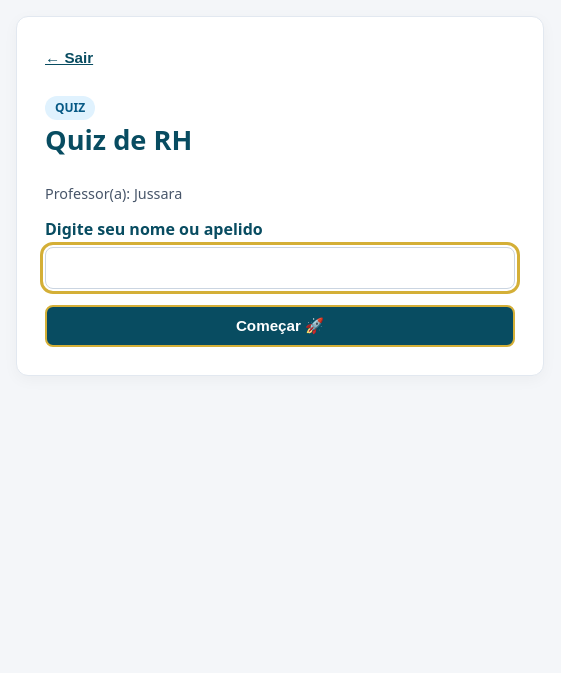
Test case: aluno escolhe alternativas no quiz e vê o placar final
The width and height of the screenshot is (561, 673).
Tela do nome
Type "Ana" into the field labelled "Digite seu nome ou apelido".
click(280, 268); type("Ana")  # box x1=45 y1=247 x2=515 y2=289
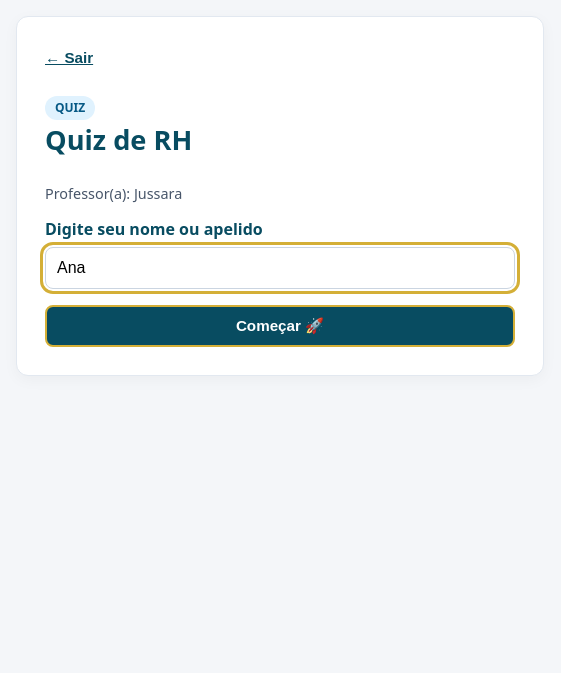
Click the button "Começar 🚀".
click(280, 326)  # box x1=45 y1=305 x2=515 y2=347
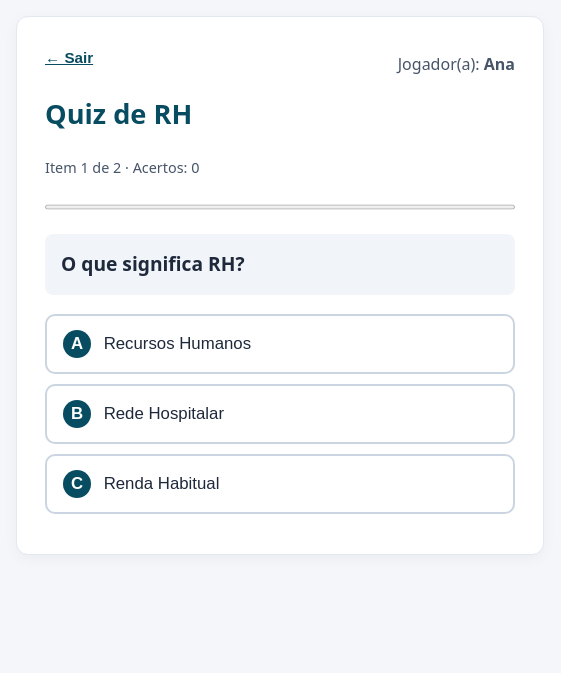
Pergunta 1 - escolhe a certa
Click the button "A Recursos Humanos".
click(177, 344)  # box x1=45 y1=314 x2=515 y2=374
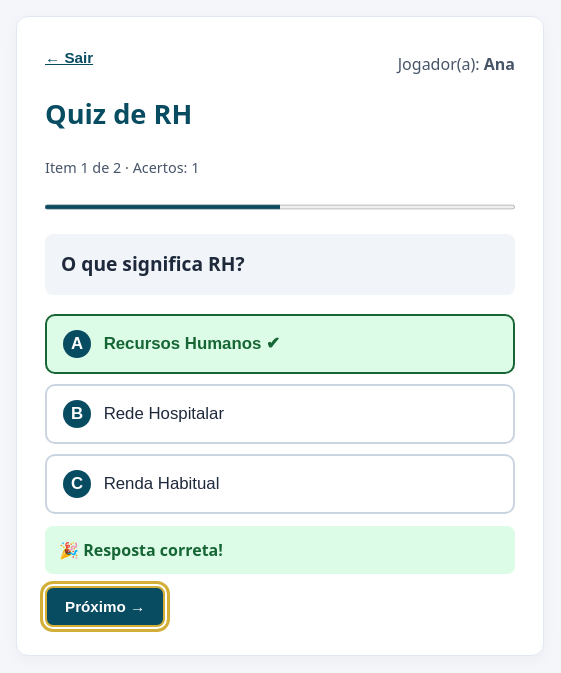
Check: the message shows "correta", box x1=59 y1=539 x2=223 y2=561
Click the button "Próximo →".
click(105, 607)  # box x1=45 y1=586 x2=165 y2=627
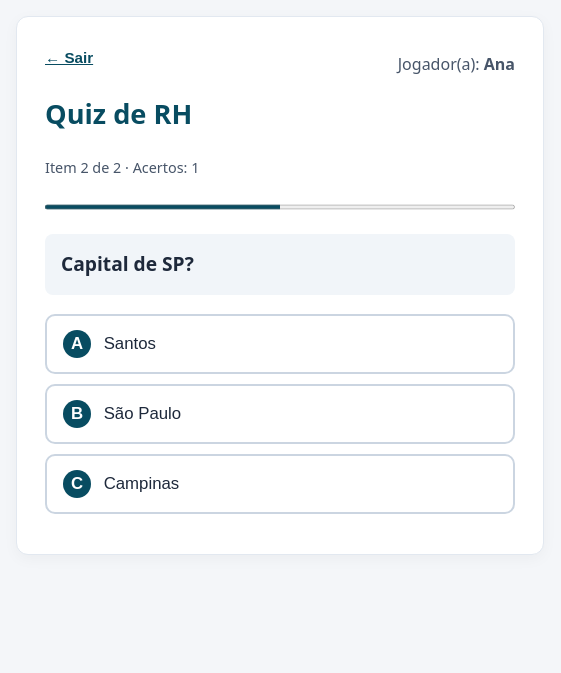
Pergunta 2 - escolhe a errada e o jogo mostra a certa
Click the button "C Campinas".
click(141, 484)  # box x1=45 y1=454 x2=515 y2=514
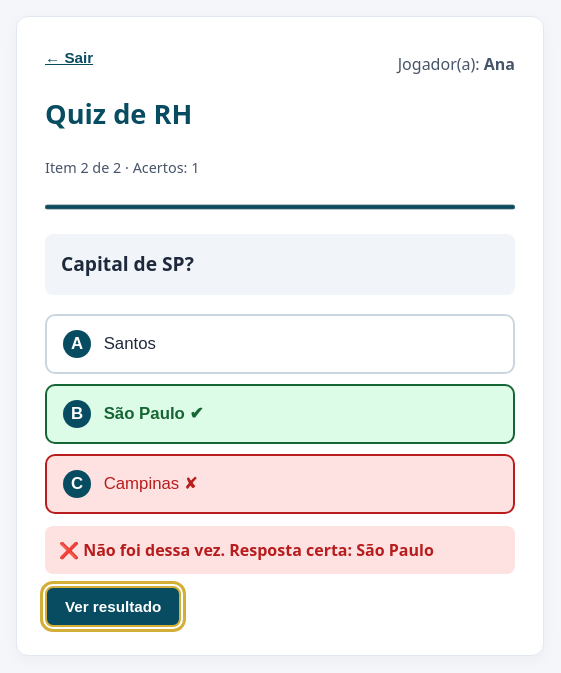
Check: the message shows "São Paulo", box x1=59 y1=539 x2=434 y2=561
Click the button "Ver resultado".
click(113, 607)  # box x1=45 y1=586 x2=181 y2=627
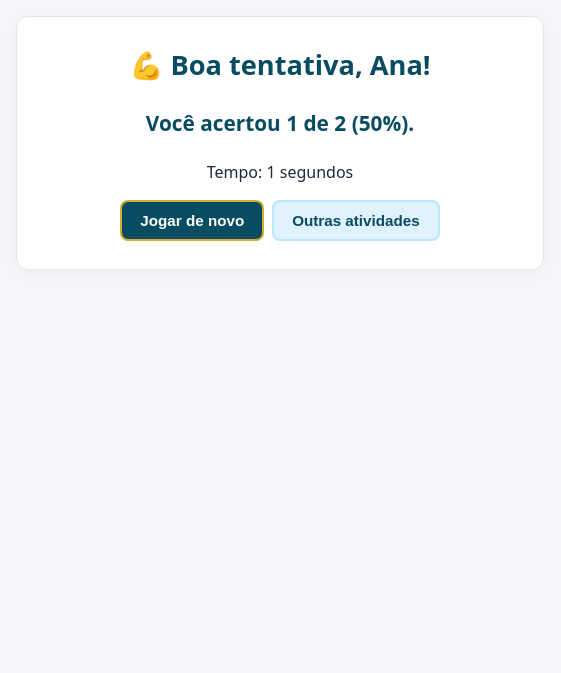
Check: the text "Você acertou 1 de 2 (50%)." is shown, box x1=146 y1=109 x2=414 y2=137
